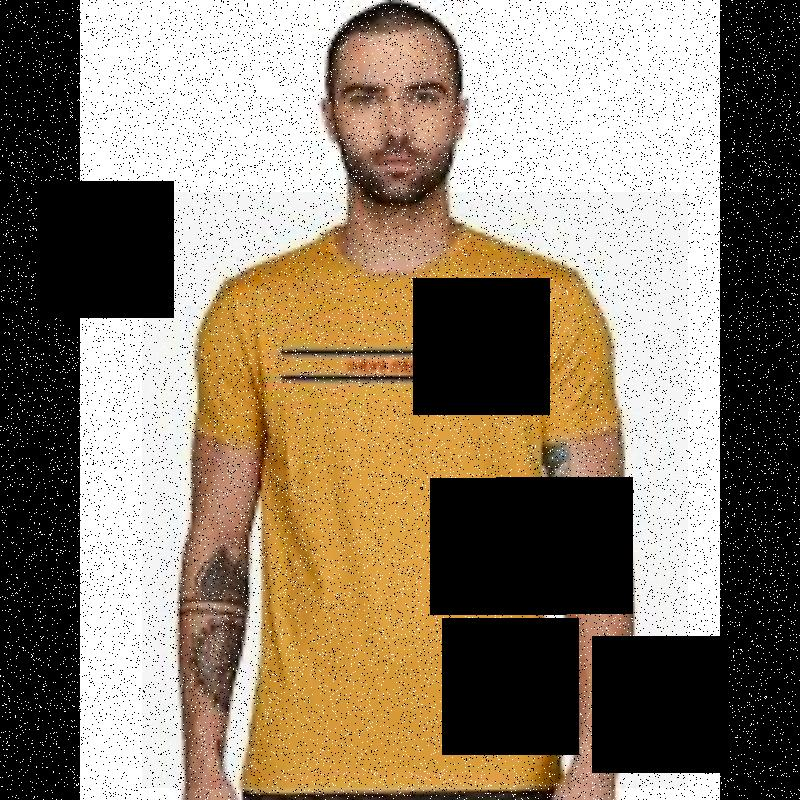Tshirt: (142, 192, 688, 788)
